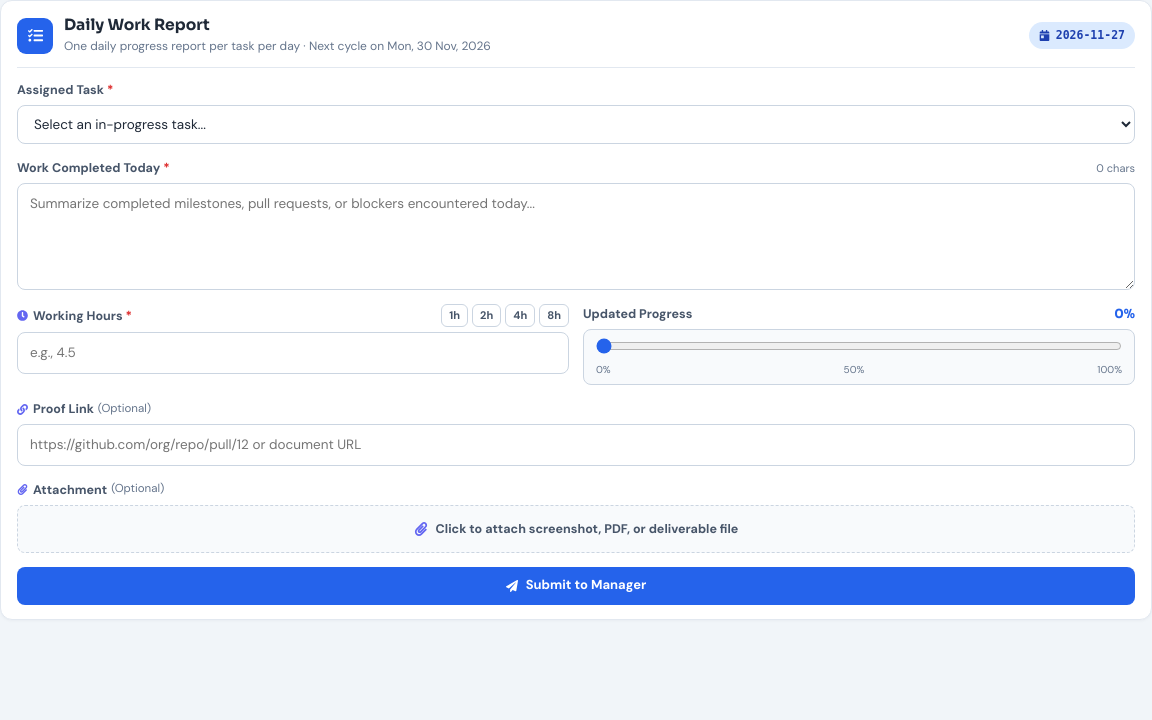
TaskModule role scoping, counters, and One-Day-One-Work › DailyWorkReport enforces One Day, One Work and displays existing status & manager feedback
This screenshot has width=1152, height=720.
Select "T-010 · Build Module" in the dropdown at (576, 125), box [17,105,1135,144]
(page scrolled)
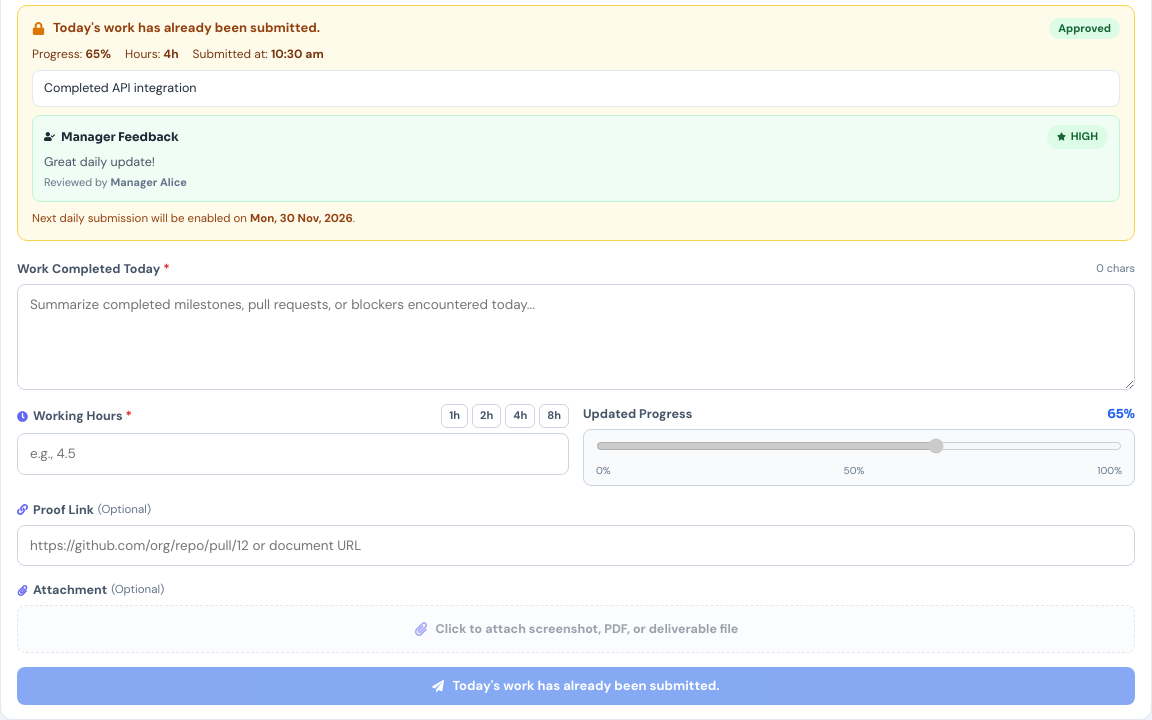
Expected: the text "Today's work has already been submitted." is shown, [53,18,320,39]
Expected: the text "Approved" is shown, [1049,18,1120,39]
Expected: the text "Great daily update!" is shown, [44,154,155,170]
